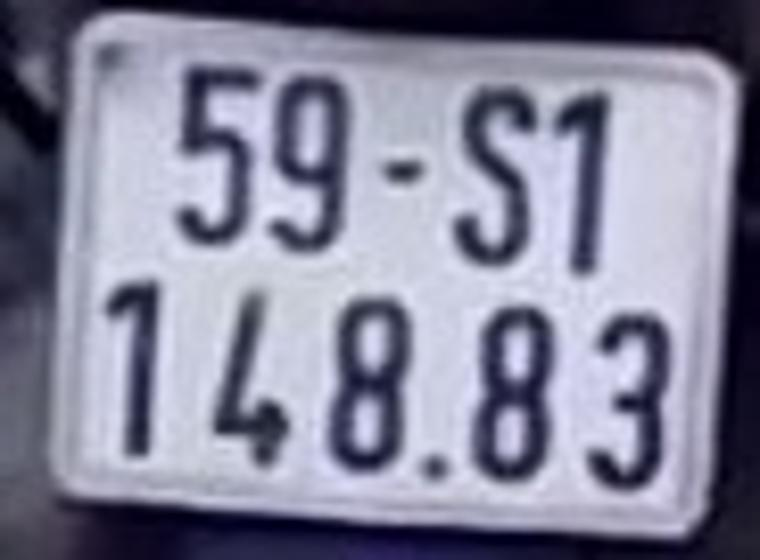-: (378, 154, 425, 188)
.: (421, 453, 446, 480)
1: (557, 90, 605, 275), (106, 283, 157, 454)
3: (593, 315, 668, 490)
4: (211, 287, 293, 467)
5: (175, 64, 251, 244)
8: (331, 294, 404, 472), (479, 303, 550, 480)
9: (271, 76, 350, 251)
S: (455, 87, 532, 267)
